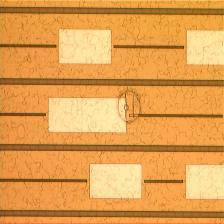PIQ PARTICLE: (113, 89, 149, 125)
